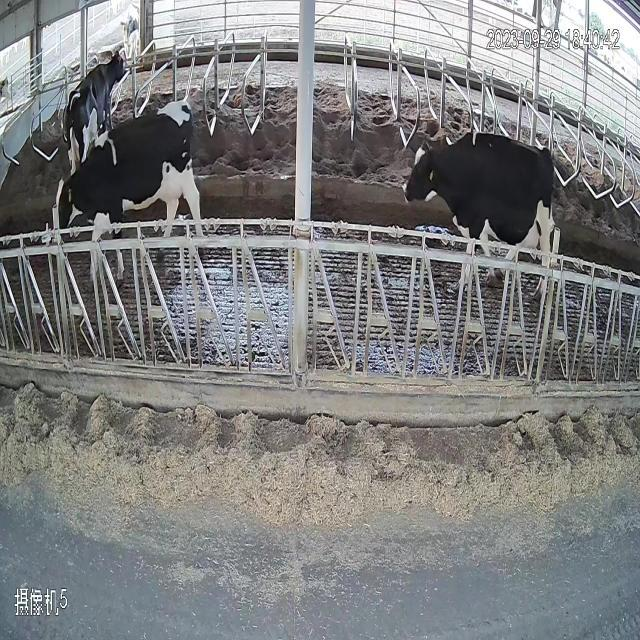standing: (405, 118, 583, 322), (56, 96, 224, 286)
